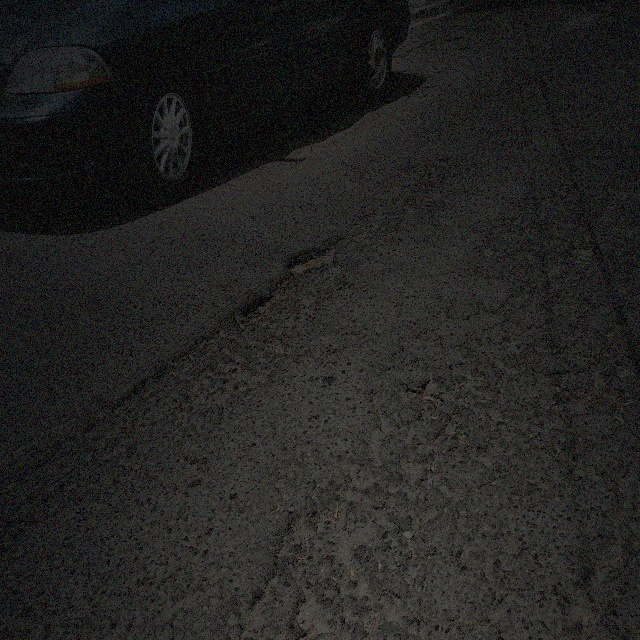pothole: (238, 280, 284, 325), (290, 238, 335, 276), (105, 448, 131, 474), (418, 374, 441, 400)
